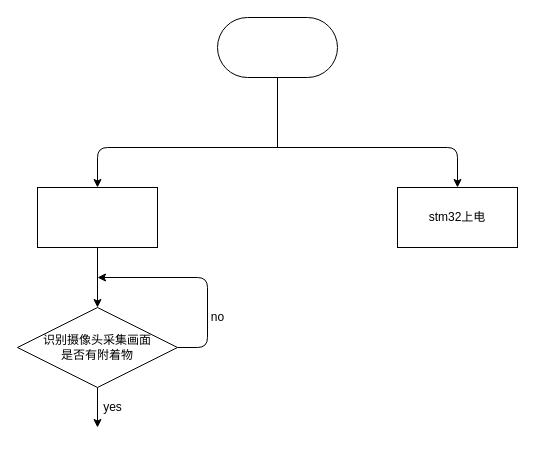
Image size: 535x453. Some labels were removed from this diagram. Here are the shapes that lost their labels. From the top down, the box of each, then its label:
(216, 16, 338, 78): 开始
(36, 186, 158, 248): 工控机运行 python程序
